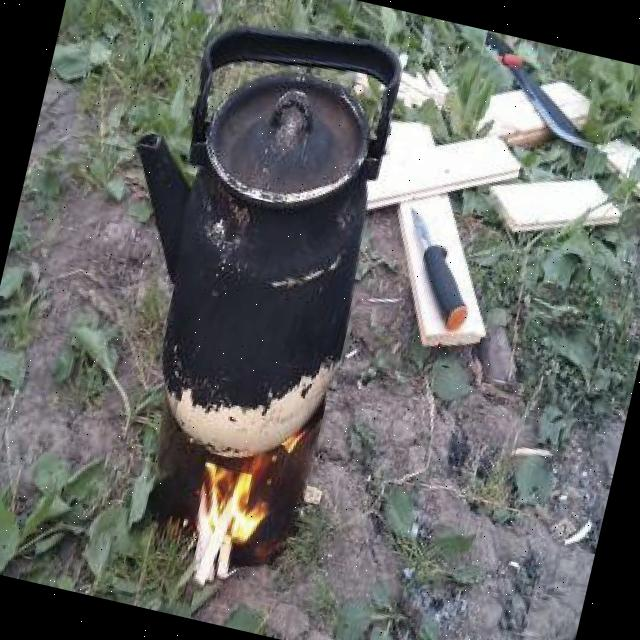fire: (172, 413, 290, 582)
